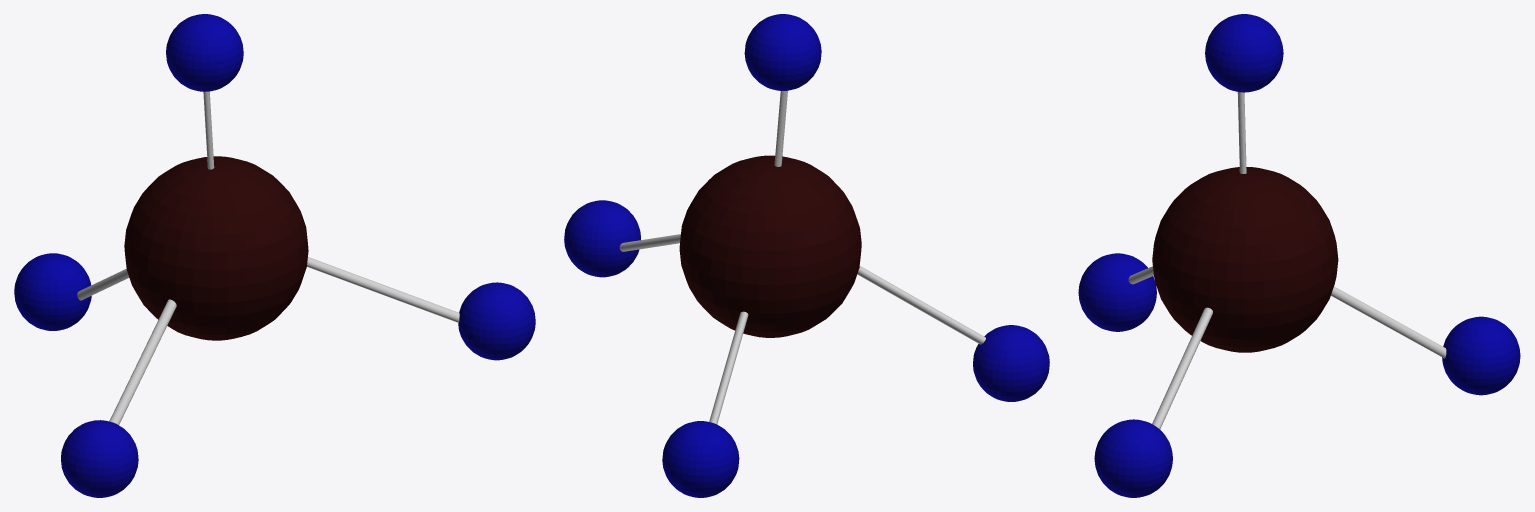
3 views of the same model, side by side, from view 1: azimuth 30°, elevation 25°; view 2: azimuth 150°, elevation 25°; view 3: azimuth 270°, elevation 25° (orthographic).
Visible parts, largest first — view 1: Sphere.004, Sphere, Sphere.002, Sphere.003, Sphere.001, Cylinder.001, Cylinder; view 2: Sphere.004, Sphere, Sphere.001, Sphere.002, Sphere.003, Cylinder, Cylinder.002, Cylinder.004, Cylinder.001; view 3: Sphere.004, Sphere, Sphere.003, Sphere.001, Sphere.002, Cylinder.001, Cylinder.002, Cylinder.004.
Boxes of the visible parts, bbox=[...] form: Sphere.004: bbox=[124, 156, 308, 340]; Sphere: bbox=[166, 14, 243, 91]; Sphere.002: bbox=[61, 420, 138, 497]; Sphere.003: bbox=[458, 282, 535, 360]; Sphere.001: bbox=[14, 253, 91, 330]; Cylinder.001: bbox=[307, 257, 459, 322]; Cylinder: bbox=[109, 299, 176, 424]; Sphere.004: bbox=[679, 155, 861, 337]; Sphere: bbox=[744, 14, 821, 90]; Sphere.001: bbox=[662, 421, 739, 497]; Sphere.002: bbox=[973, 325, 1049, 401]; Sphere.003: bbox=[564, 200, 640, 277]; Cylinder: bbox=[857, 266, 985, 344]; Cylinder.002: bbox=[709, 311, 748, 424]; Cylinder.004: bbox=[774, 90, 787, 166]; Cylinder.001: bbox=[619, 234, 680, 251]; Sphere.004: bbox=[1152, 167, 1338, 352]; Sphere: bbox=[1205, 14, 1283, 92]; Sphere.003: bbox=[1094, 419, 1172, 497]; Sphere.001: bbox=[1442, 316, 1520, 395]; Sphere.002: bbox=[1078, 253, 1156, 331]; Cylinder.001: bbox=[1152, 307, 1212, 429]; Cylinder.002: bbox=[1331, 286, 1446, 358]; Cylinder.004: bbox=[1237, 92, 1246, 173].
Bounding box in the file's own units: 6.47 × 5.1 × 5.2.
